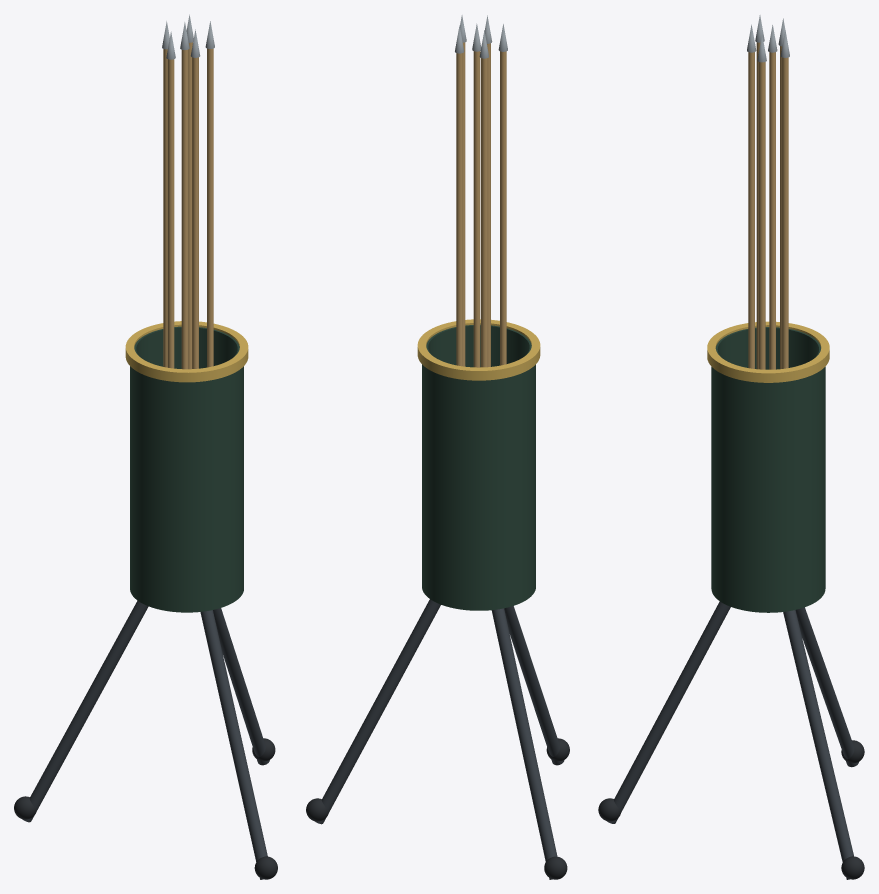
File: ground_quiver.glb
The picture shows the model from 3 angles, left to right: view 1: azimuth 30°, elevation 25°; view 2: azimuth 150°, elevation 25°; view 3: azimuth 270°, elevation 25°; orthographic projection.
Parts seen in each view (by area): view 1: cup, leg_0, leg_2, rim, shaft_5, shaft_0, shaft_2, shaft_1, leg_1, shaft_3, shaft_4; view 2: cup, leg_2, leg_1, rim, shaft_5, shaft_0, shaft_4, shaft_3, leg_0, shaft_1, shaft_2; view 3: cup, leg_1, leg_0, rim, shaft_2, shaft_5, shaft_1, shaft_4, leg_2, shaft_0, shaft_3.
Part boxes in pixels (x1,y1,x2,y2): cup: (130, 326, 243, 612); leg_0: (200, 610, 267, 879); leg_2: (22, 600, 148, 822); rim: (125, 321, 248, 382); shaft_5: (181, 50, 188, 369); shaft_0: (167, 59, 174, 368); shaft_2: (207, 48, 213, 367); shaft_1: (192, 57, 198, 368); leg_1: (213, 608, 269, 765); shaft_3: (163, 49, 167, 367); shaft_4: (188, 42, 192, 369); cup: (422, 324, 535, 610); leg_2: (491, 608, 557, 879); leg_1: (315, 599, 440, 824); rim: (417, 319, 540, 380); shaft_5: (473, 51, 480, 367); shaft_0: (500, 51, 506, 365); shaft_4: (456, 53, 462, 366); shaft_3: (481, 58, 487, 367); leg_0: (504, 606, 564, 765); shaft_1: (487, 43, 490, 366); shaft_2: (463, 42, 465, 366); cup: (711, 327, 825, 612); leg_1: (783, 610, 853, 879); leg_0: (607, 601, 730, 823); rim: (707, 321, 829, 382); shaft_2: (758, 62, 765, 369); shaft_5: (769, 52, 775, 369); shaft_1: (748, 52, 754, 368); shaft_4: (782, 57, 788, 368); leg_2: (795, 607, 858, 767); shaft_0: (756, 42, 760, 369); shaft_3: (780, 46, 782, 369).
Size of the model in its own units: 0.2819 by 0.8346 by 0.2519.
